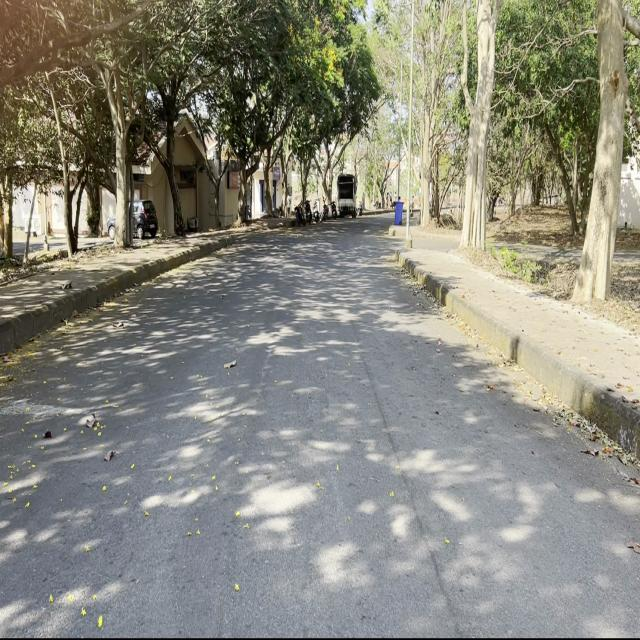Object: (335, 171, 361, 223)
Road: (3, 226, 634, 631)
